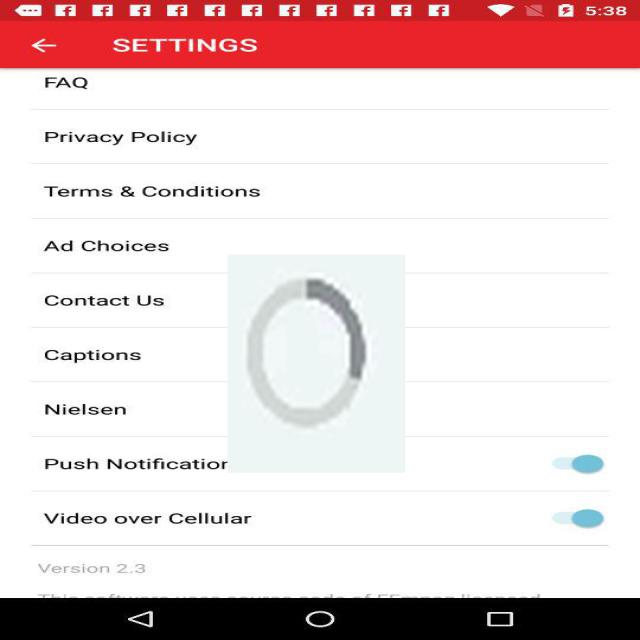misdirection: (228, 255, 406, 472)
